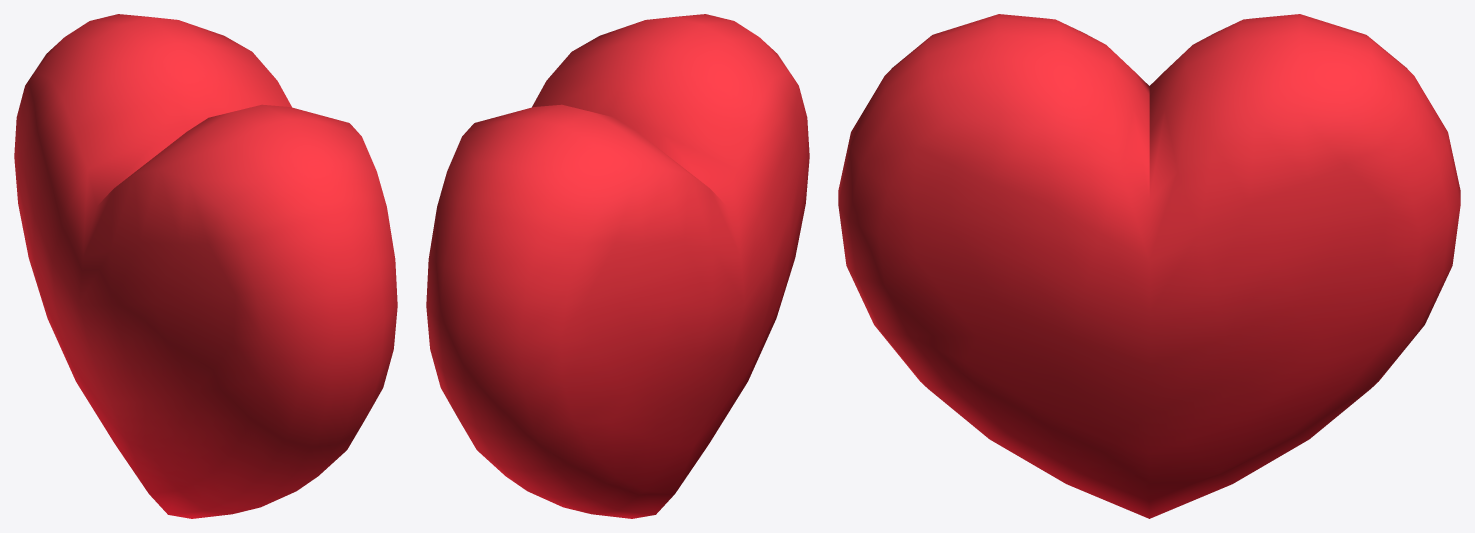
Rendered from Heart_V1_00.fbx.
3 renders of one model, left to right at view 1: azimuth 30°, elevation 25°; view 2: azimuth 150°, elevation 25°; view 3: azimuth 270°, elevation 25°, orthographic. The views are drawn at different scales.
Visible parts, largest first — view 1: Heart_V1_00; view 2: Heart_V1_00; view 3: Heart_V1_00.
Boxes of the visible parts, x1=… form: Heart_V1_00: x1=14, y1=14, x2=397, y2=518; Heart_V1_00: x1=426, y1=14, x2=809, y2=518; Heart_V1_00: x1=838, y1=14, x2=1460, y2=518.
Size of the model in its own units: 23.68 by 39.52 by 46.14.
